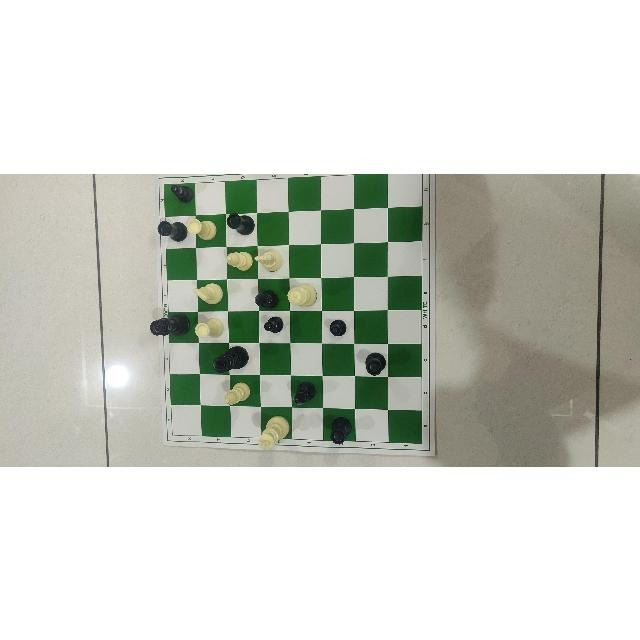black-bishop: (290, 379, 316, 407), (252, 286, 280, 307)
black-king: (211, 342, 251, 370)
black-pawn: (168, 182, 196, 204), (261, 313, 285, 335), (325, 314, 346, 337)
black-queen: (149, 307, 190, 338)
black-rook: (226, 211, 256, 236), (329, 414, 353, 445), (364, 349, 388, 377), (158, 219, 188, 241)
white-bishop: (219, 378, 251, 406), (221, 247, 254, 272)
white-king: (256, 411, 290, 450)
white-knight: (192, 276, 227, 305), (254, 247, 288, 273)
white-queen: (286, 282, 317, 308)
white-rook: (193, 315, 222, 341), (188, 215, 218, 240)
